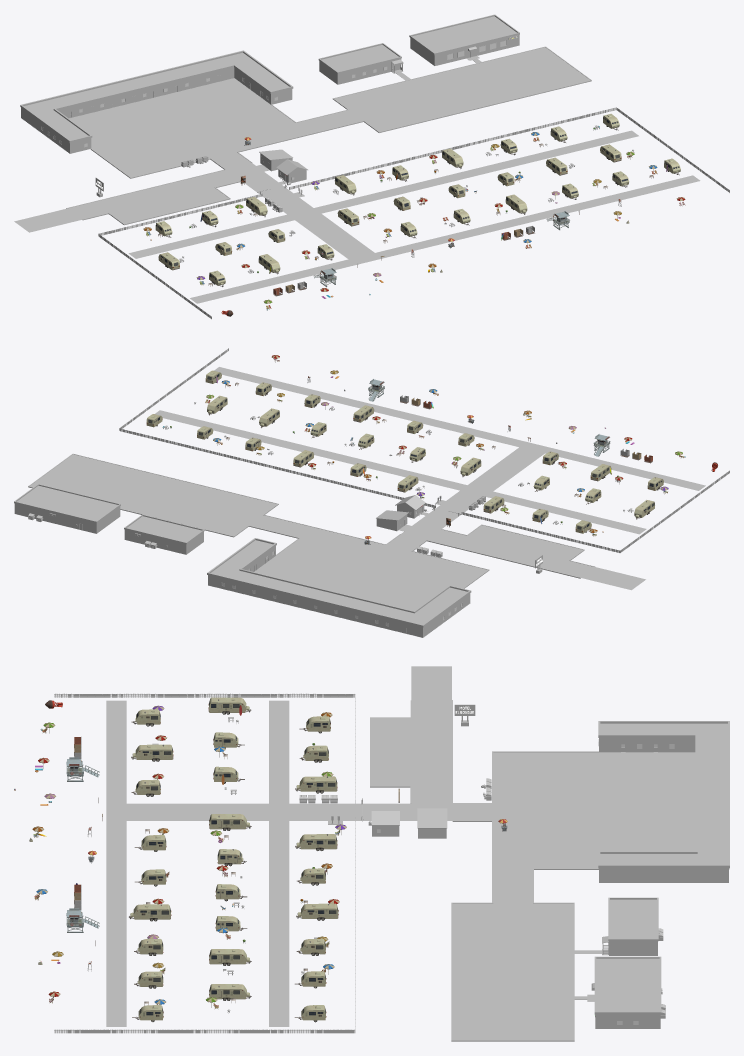
File: MotelElBosque.fbx
3 views of the same model, one above another, from view 1: azimuth 30°, elevation 25°; view 2: azimuth 150°, elevation 25°; view 3: azimuth 270°, elevation 25° (orthographic). The views are drawn at different scales.
Visible parts, largest first — view 1: Parking.001, MotelRoof, Motel.070, Zabor.023, CoffeLiteRoof, Bordur.013, BeerHoneyRoof, CoffeLite, BeerHoney; view 2: Parking.001, MotelRoof, Motel.070, Zabor.023, CoffeLiteRoof, Bordur.013, BeerHoneyRoof, CoffeLite, BeerHoney; view 3: Parking.001, MotelRoof, CoffeLiteRoof, Motel.070, Zabor.023, BeerHoneyRoof, Bordur.013, CoffeLite, BeerHoney, FermHaus.018, MobileHouse1.003, MobileHouse1 (+6 smaller).
Part boxes in pixels (x1,y1,x2,y2): Parking.001: [14, 47, 700, 303]; MotelRoof: [20, 50, 293, 142]; Motel.070: [21, 67, 292, 153]; Zabor.023: [98, 107, 729, 319]; CoffeLiteRoof: [409, 14, 519, 55]; Bordur.013: [66, 46, 591, 225]; BeerHoneyRoof: [318, 43, 401, 73]; CoffeLite: [410, 34, 519, 65]; BeerHoney: [319, 58, 401, 84]; Parking.001: [30, 367, 705, 610]; MotelRoof: [207, 538, 471, 627]; Motel.070: [208, 546, 470, 637]; Zabor.023: [119, 348, 729, 552]; CoffeLiteRoof: [14, 484, 120, 523]; Bordur.013: [28, 453, 594, 588]; BeerHoneyRoof: [124, 514, 204, 544]; CoffeLite: [14, 503, 120, 533]; BeerHoney: [124, 529, 203, 554]; Parking.001: [106, 666, 695, 1040]; MotelRoof: [598, 721, 729, 868]; CoffeLiteRoof: [594, 956, 661, 1014]; Motel.070: [598, 738, 729, 882]; Zabor.023: [54, 693, 355, 1033]; BeerHoneyRoof: [608, 897, 658, 941]; Bordur.013: [370, 700, 598, 1041]; CoffeLite: [591, 983, 662, 1028]; BeerHoney: [609, 931, 659, 955]; FermHaus.018: [417, 808, 447, 828]; MobileHouse1.003: [295, 834, 337, 850]; MobileHouse1: [295, 776, 337, 793].
Size of the model in its own units: 21804 by 576 by 17609.
